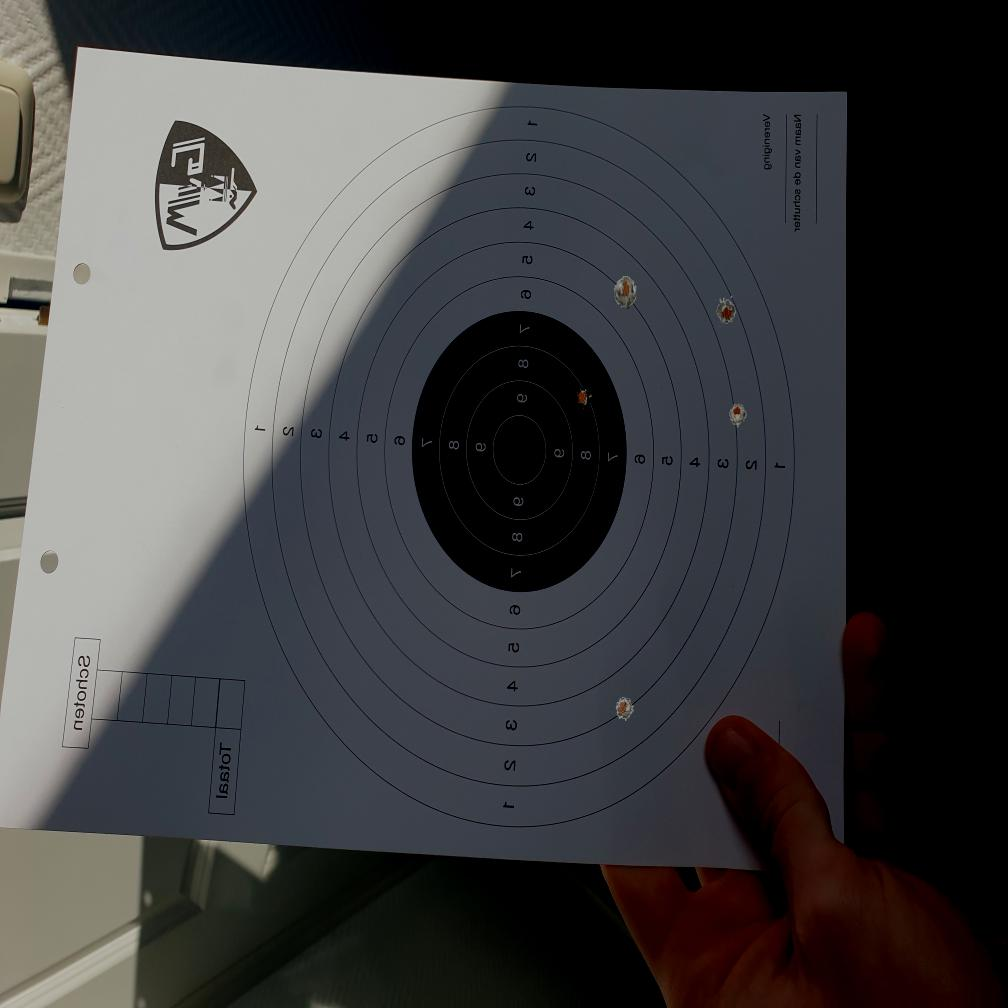2: (716, 296, 736, 324)
3: (729, 403, 747, 427), (616, 697, 634, 721)
5: (614, 274, 637, 309)
8: (575, 388, 593, 409)
Target: (242, 103, 794, 831)
black_contour: (412, 312, 626, 594)
